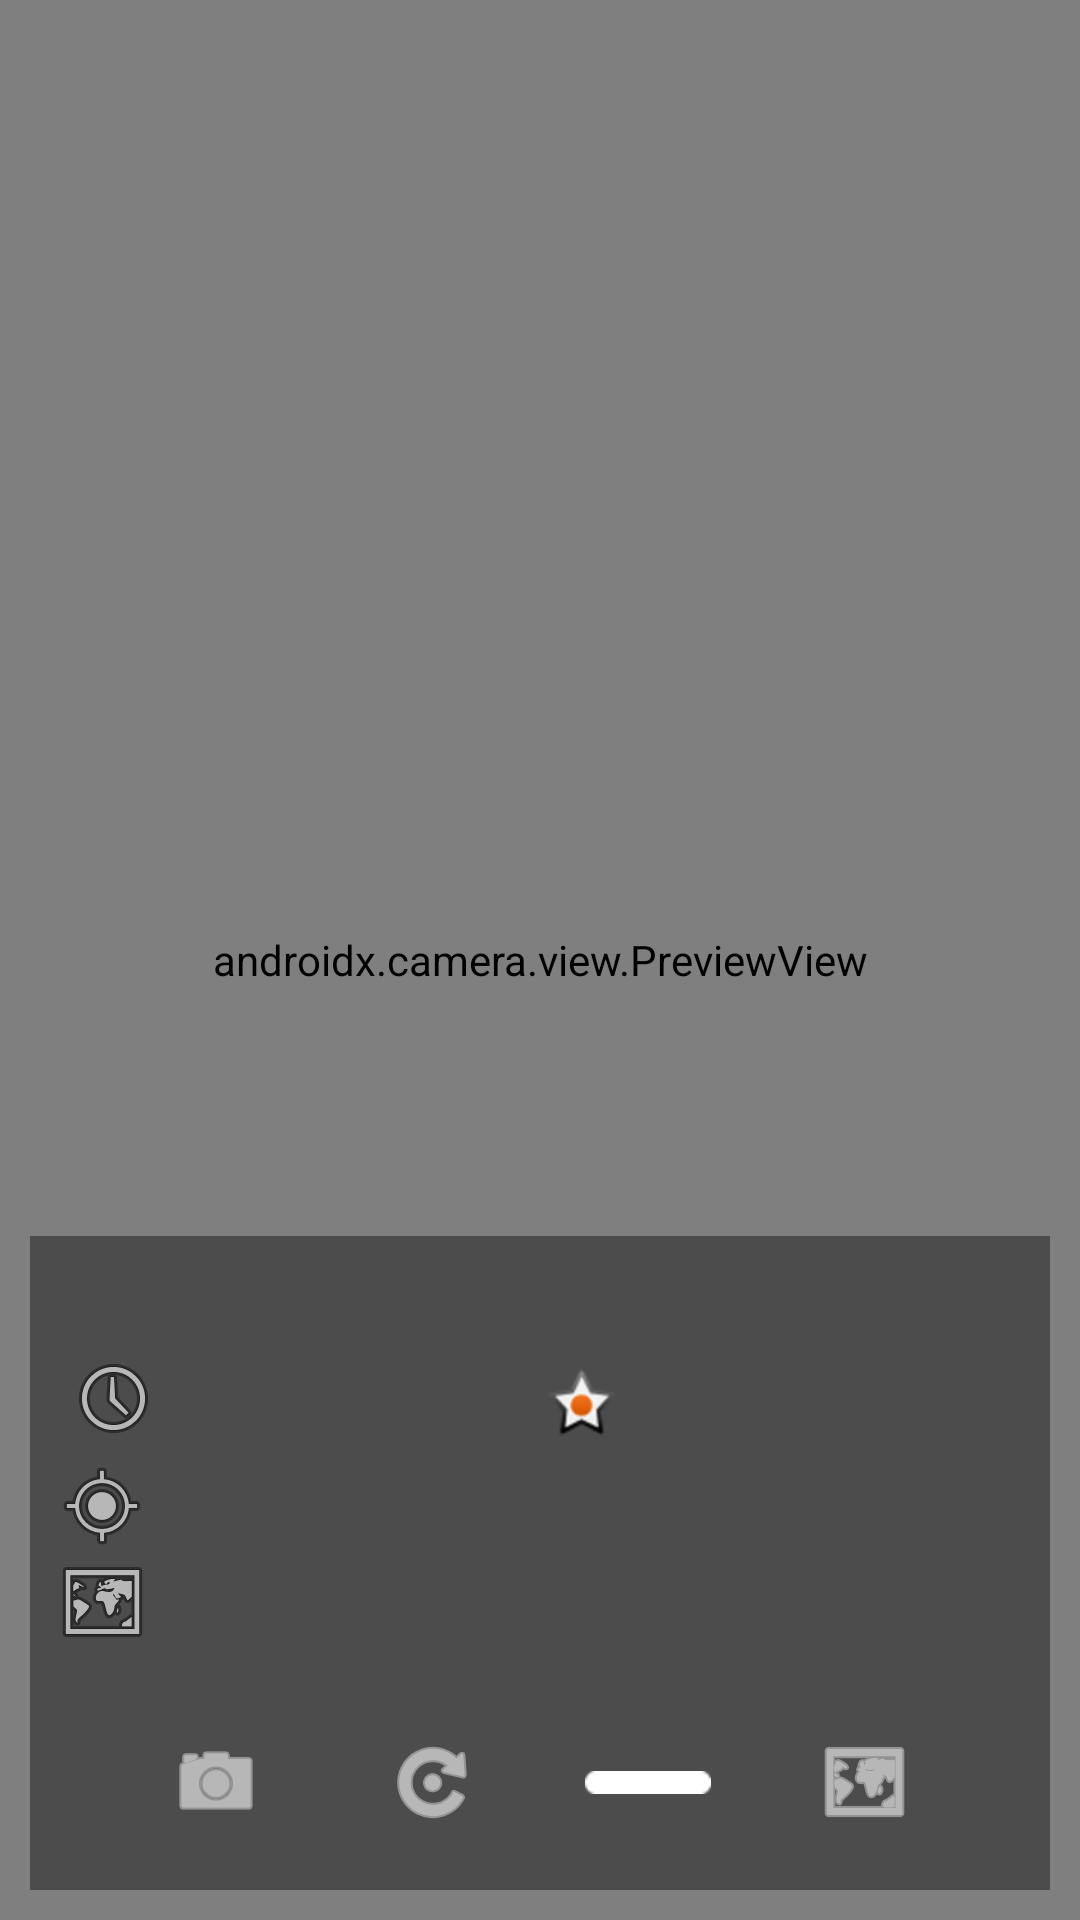

Screen size 1080 × 1920. Icon name, then its box in pixels as (x1, y1, x2, y2):
Capture: (179, 1751, 253, 1810)
Photo Map: (825, 1747, 904, 1817)
Switch Camera: (397, 1747, 467, 1818)
